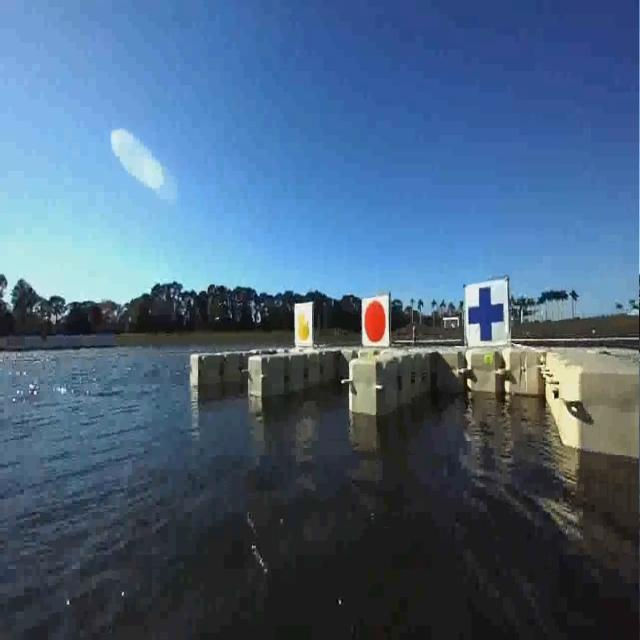blue-cross: (464, 279, 512, 342)
red-dot: (362, 302, 391, 346)
yellow-duck: (293, 304, 314, 344)
